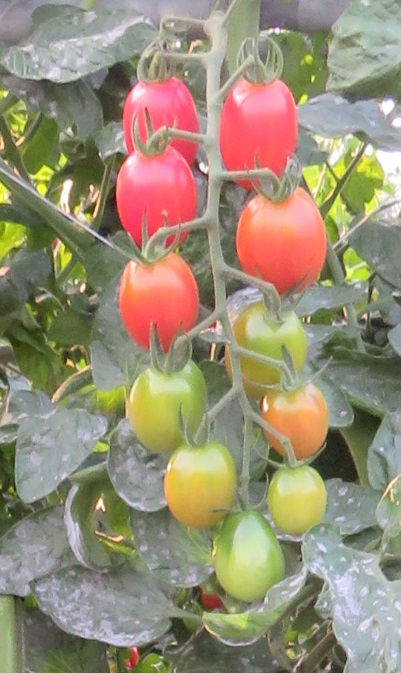green: (129, 352, 215, 460), (227, 297, 313, 394), (213, 508, 285, 601), (268, 462, 330, 539)
orange: (229, 186, 329, 297), (115, 255, 199, 353), (167, 438, 236, 529), (261, 383, 337, 461)
red: (227, 68, 306, 192), (115, 147, 198, 251), (115, 75, 204, 151)
